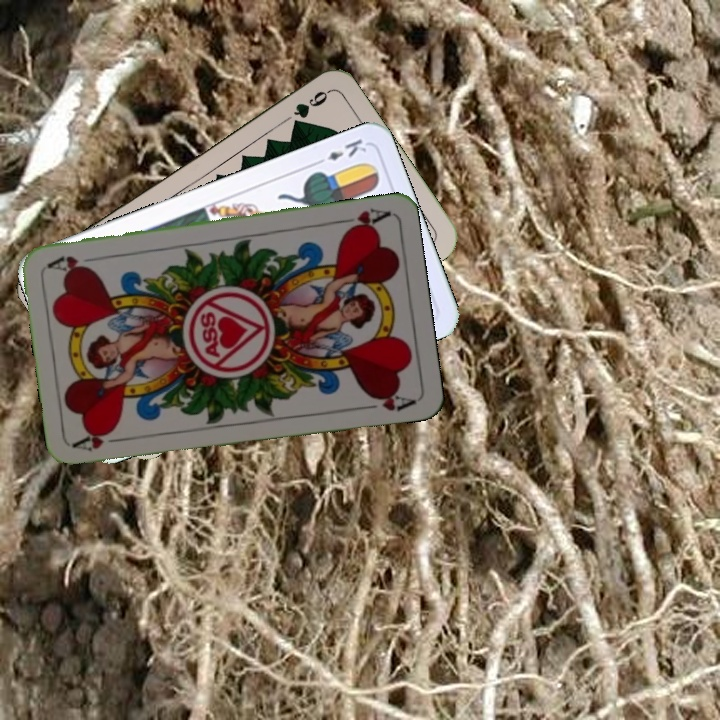EK: (311, 134, 369, 168)
G9: (279, 86, 332, 125)
HA: (333, 204, 392, 234), (71, 427, 130, 454)
